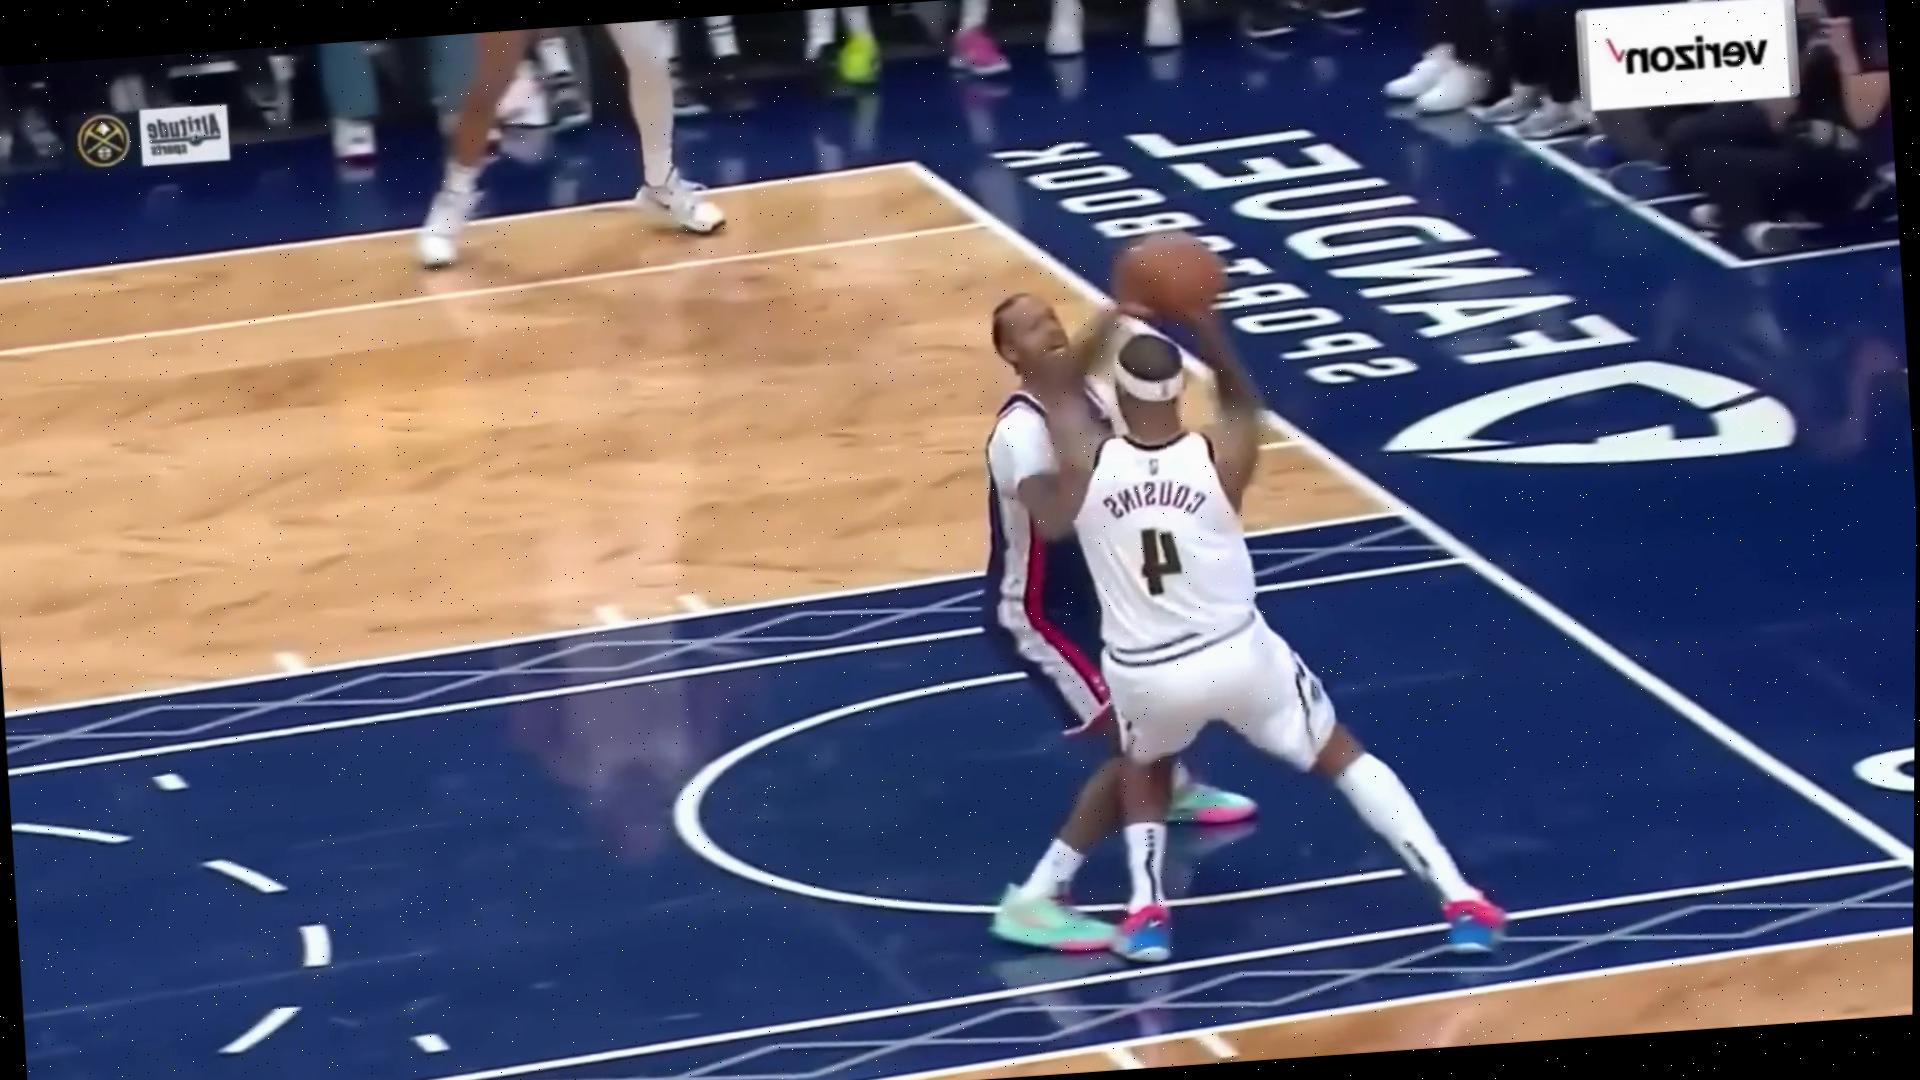no_foul: (918, 211, 1425, 997)
